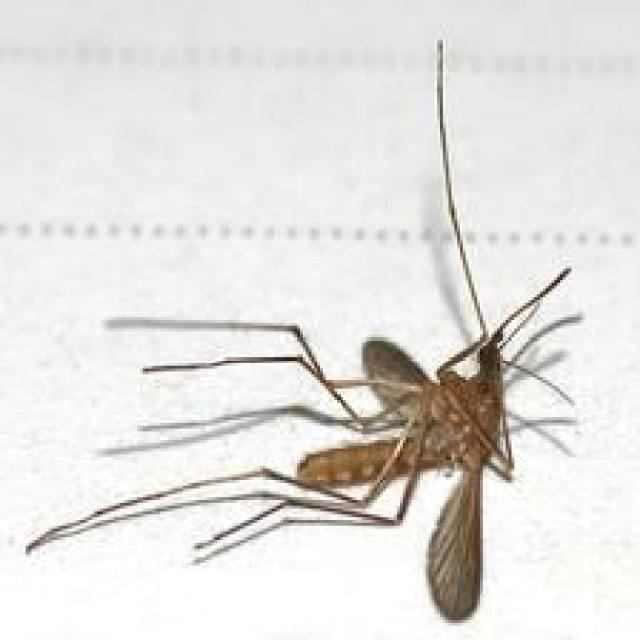Culex: (24, 34, 584, 623)
